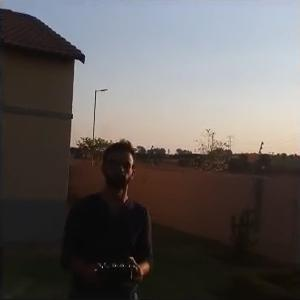follow: (55, 136, 155, 299)
